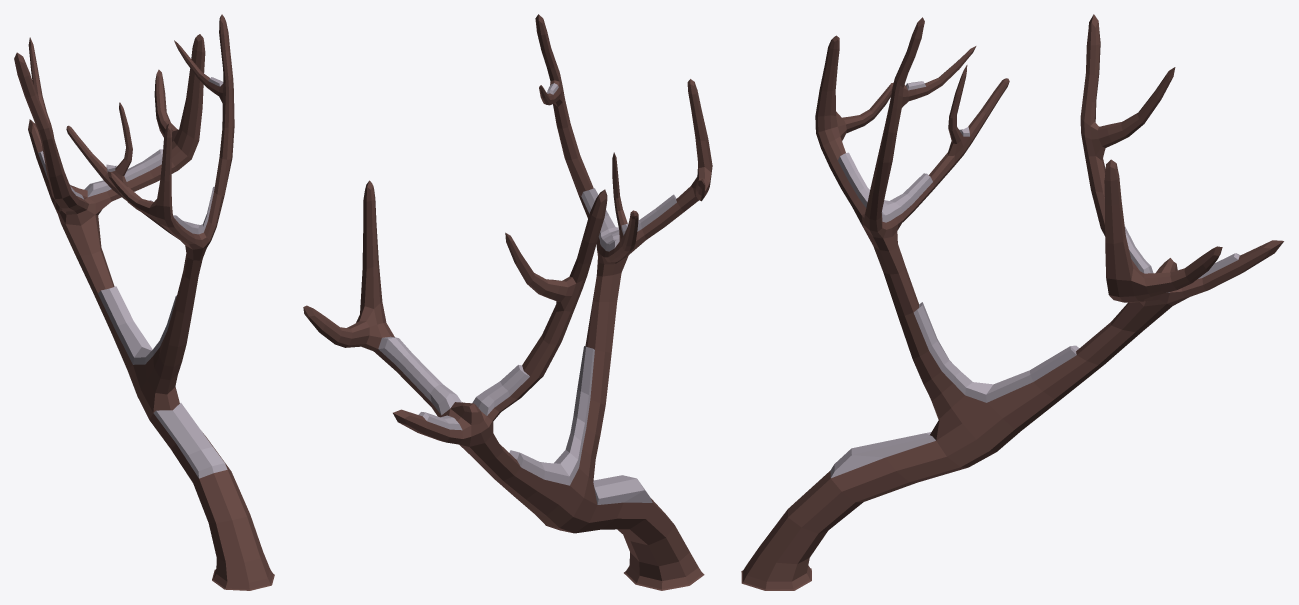
Rendered from Willow_Dead_Snow_2.gltf.
3 renders of one model, left to right at view 1: azimuth 30°, elevation 25°; view 2: azimuth 150°, elevation 25°; view 3: azimuth 270°, elevation 25°, orthographic. The views are drawn at different scales.
Parts seen in each view (by area): view 1: Willow_Dead_Snow_2; view 2: Willow_Dead_Snow_2; view 3: Willow_Dead_Snow_2.
Boxes of the visible parts, box(x1,y1,x2,y2) form: Willow_Dead_Snow_2: box(14, 14, 274, 590); Willow_Dead_Snow_2: box(303, 14, 712, 590); Willow_Dead_Snow_2: box(741, 14, 1283, 590).
Bounding box in the file's own units: 1.17 × 2.84 × 2.4.
